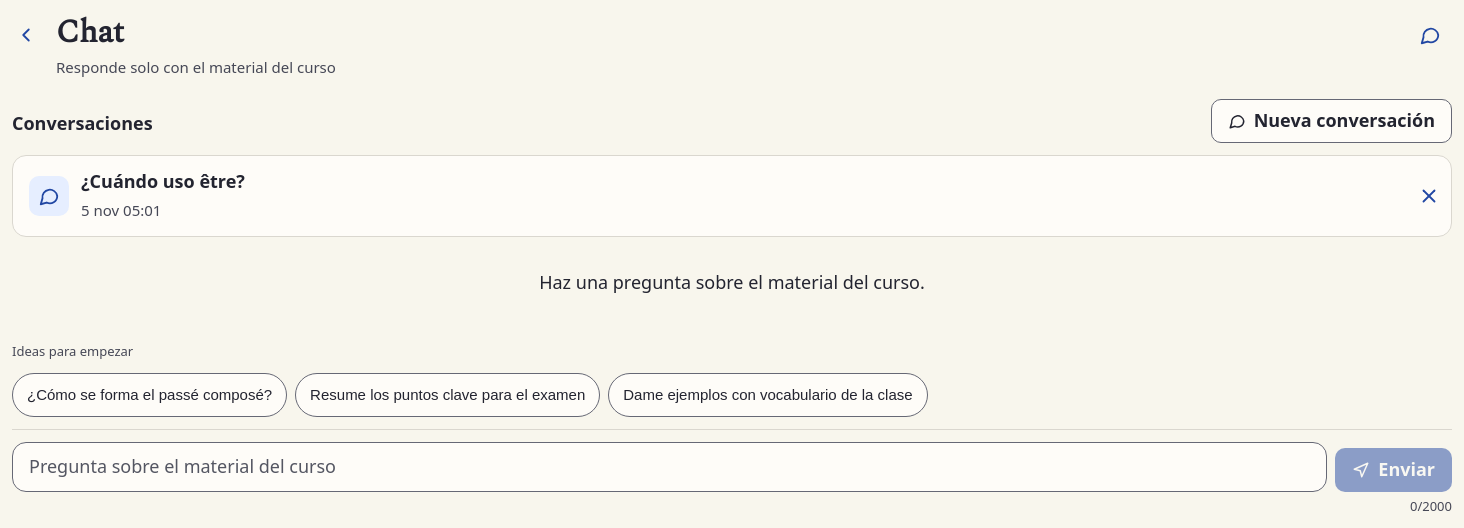
Test: 429 dice que ya hay una pregunta en curso
Type "¿Y esto?" into the text box labelled "Pregunta" at x=670, y=467, box [12,442,1327,492]
Then press Enter
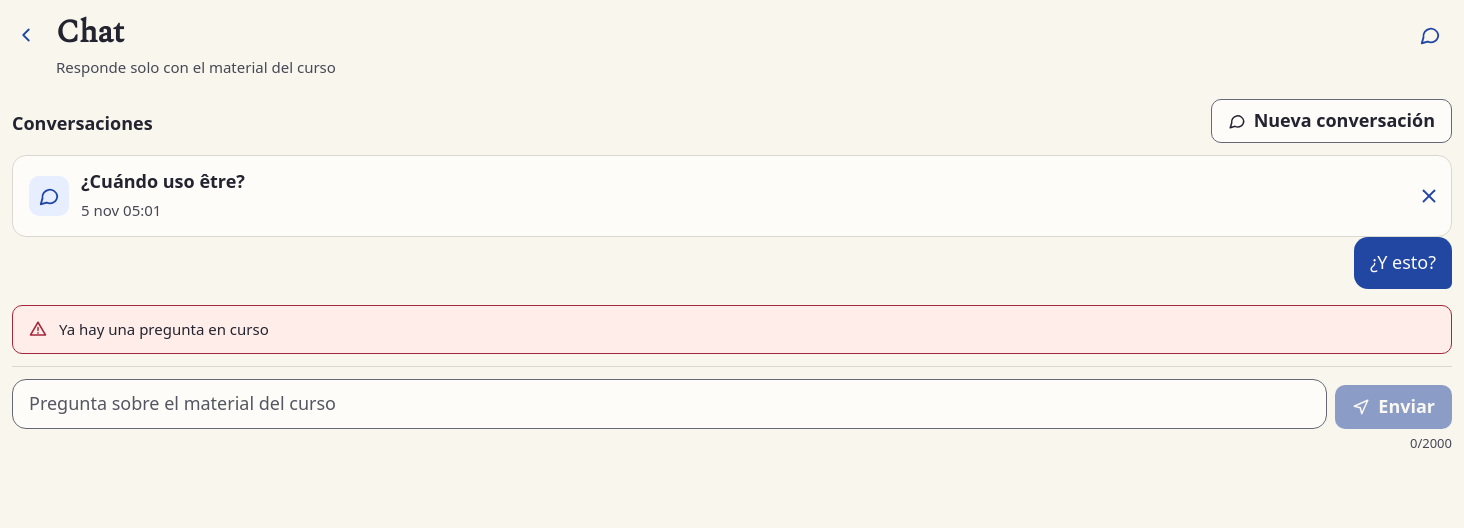
expect the text "Ya hay una pregunta en curso" is shown: met, box [59,318,269,341]
expect the message reads "Ya hay una pregunta en curso": met, box [59,319,269,339]
